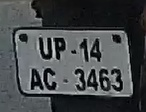1: (76, 32, 90, 65)
3: (109, 66, 128, 94), (73, 67, 88, 92)
4: (88, 36, 105, 65), (86, 68, 99, 93)
6: (97, 68, 112, 92)
A: (28, 64, 44, 91)
C: (42, 65, 59, 92)
P: (52, 34, 69, 62)
U: (37, 35, 53, 63)
